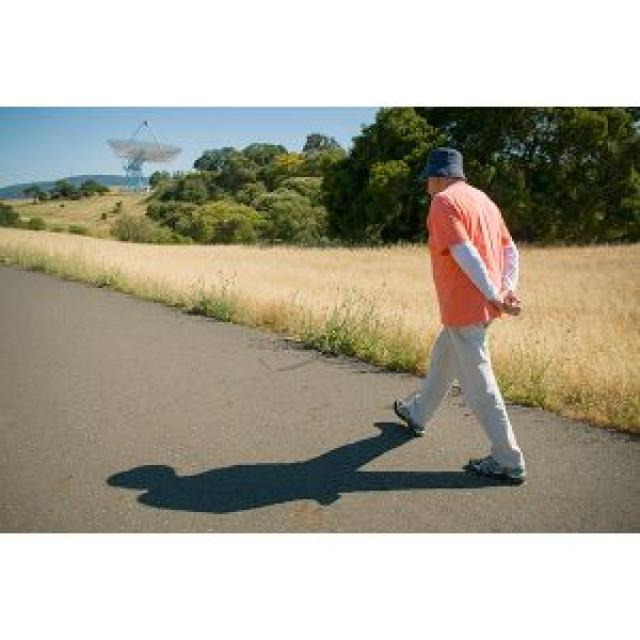nonfall: (346, 138, 564, 489)
